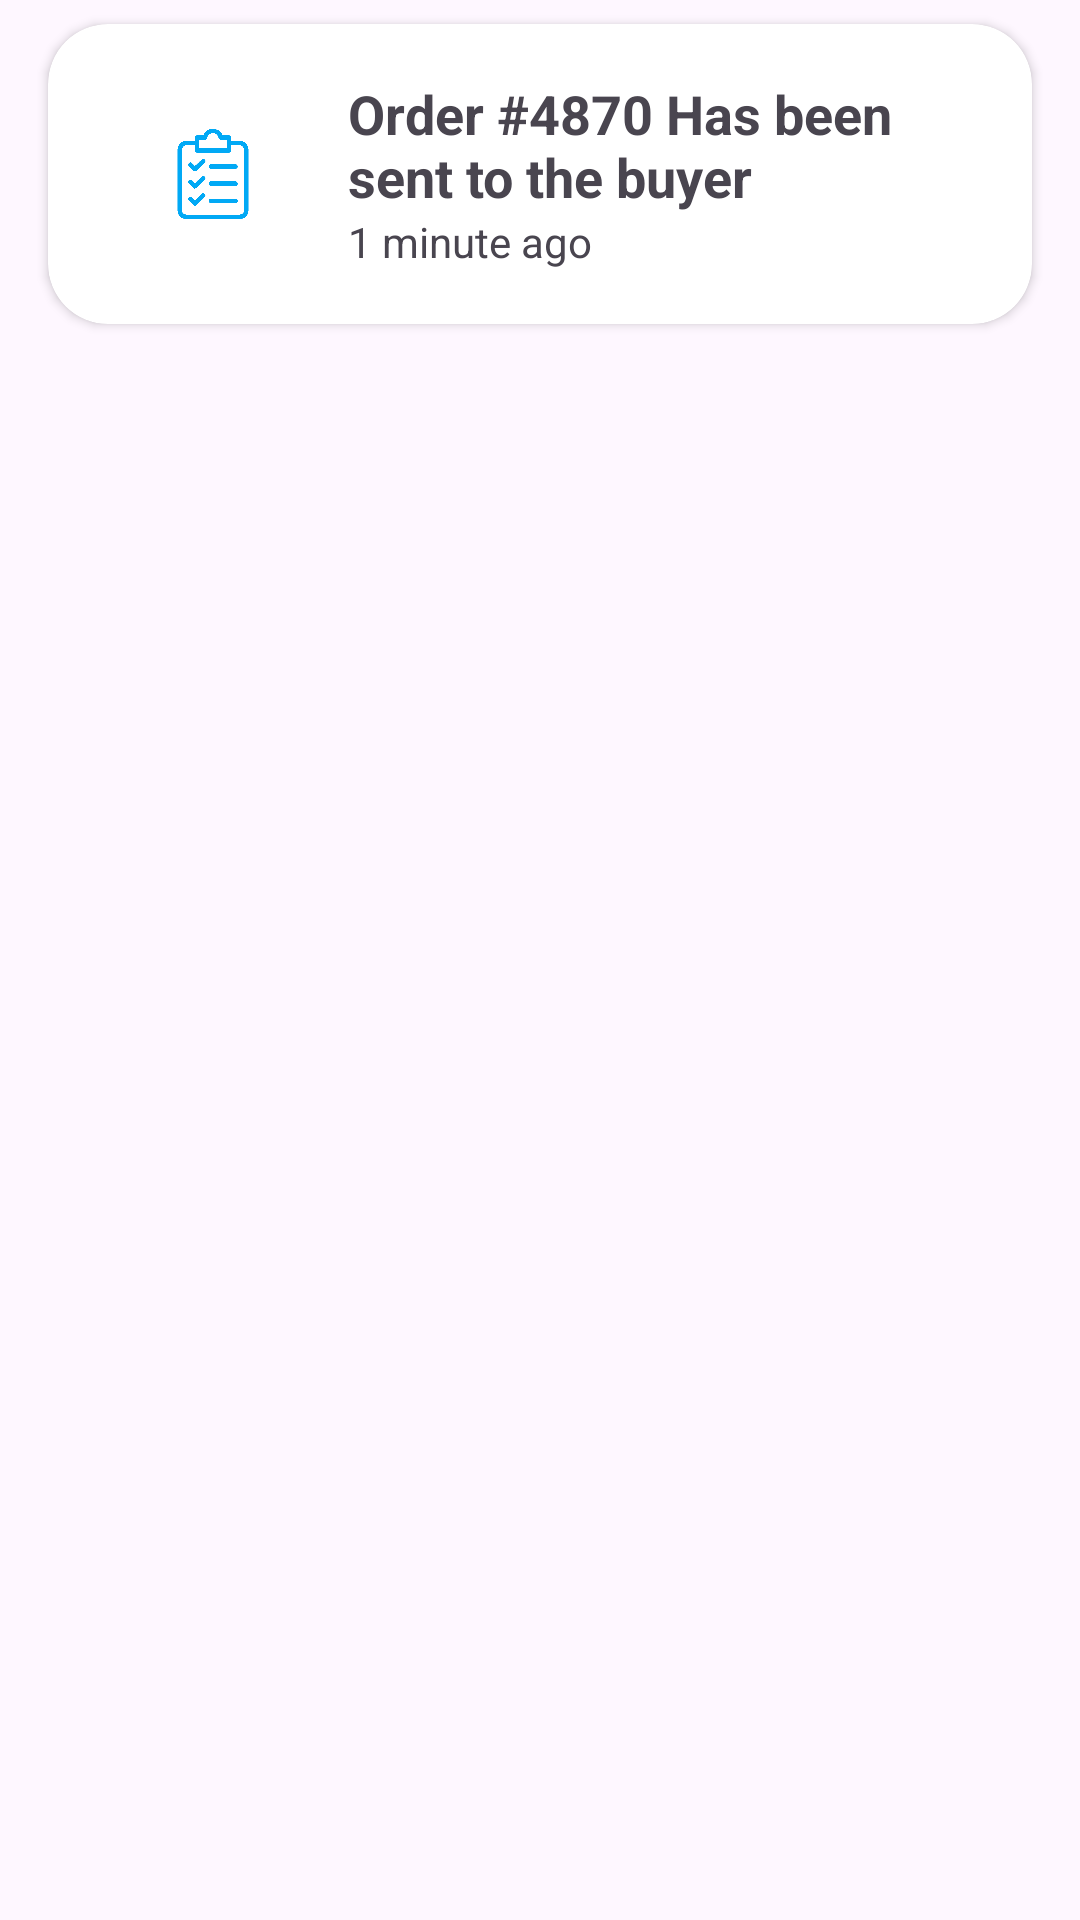

Named icons in this screenshot (1080*1920) and their bounding boxes, (x1, y1, x2, y2):
orders: (177, 129, 249, 219)
